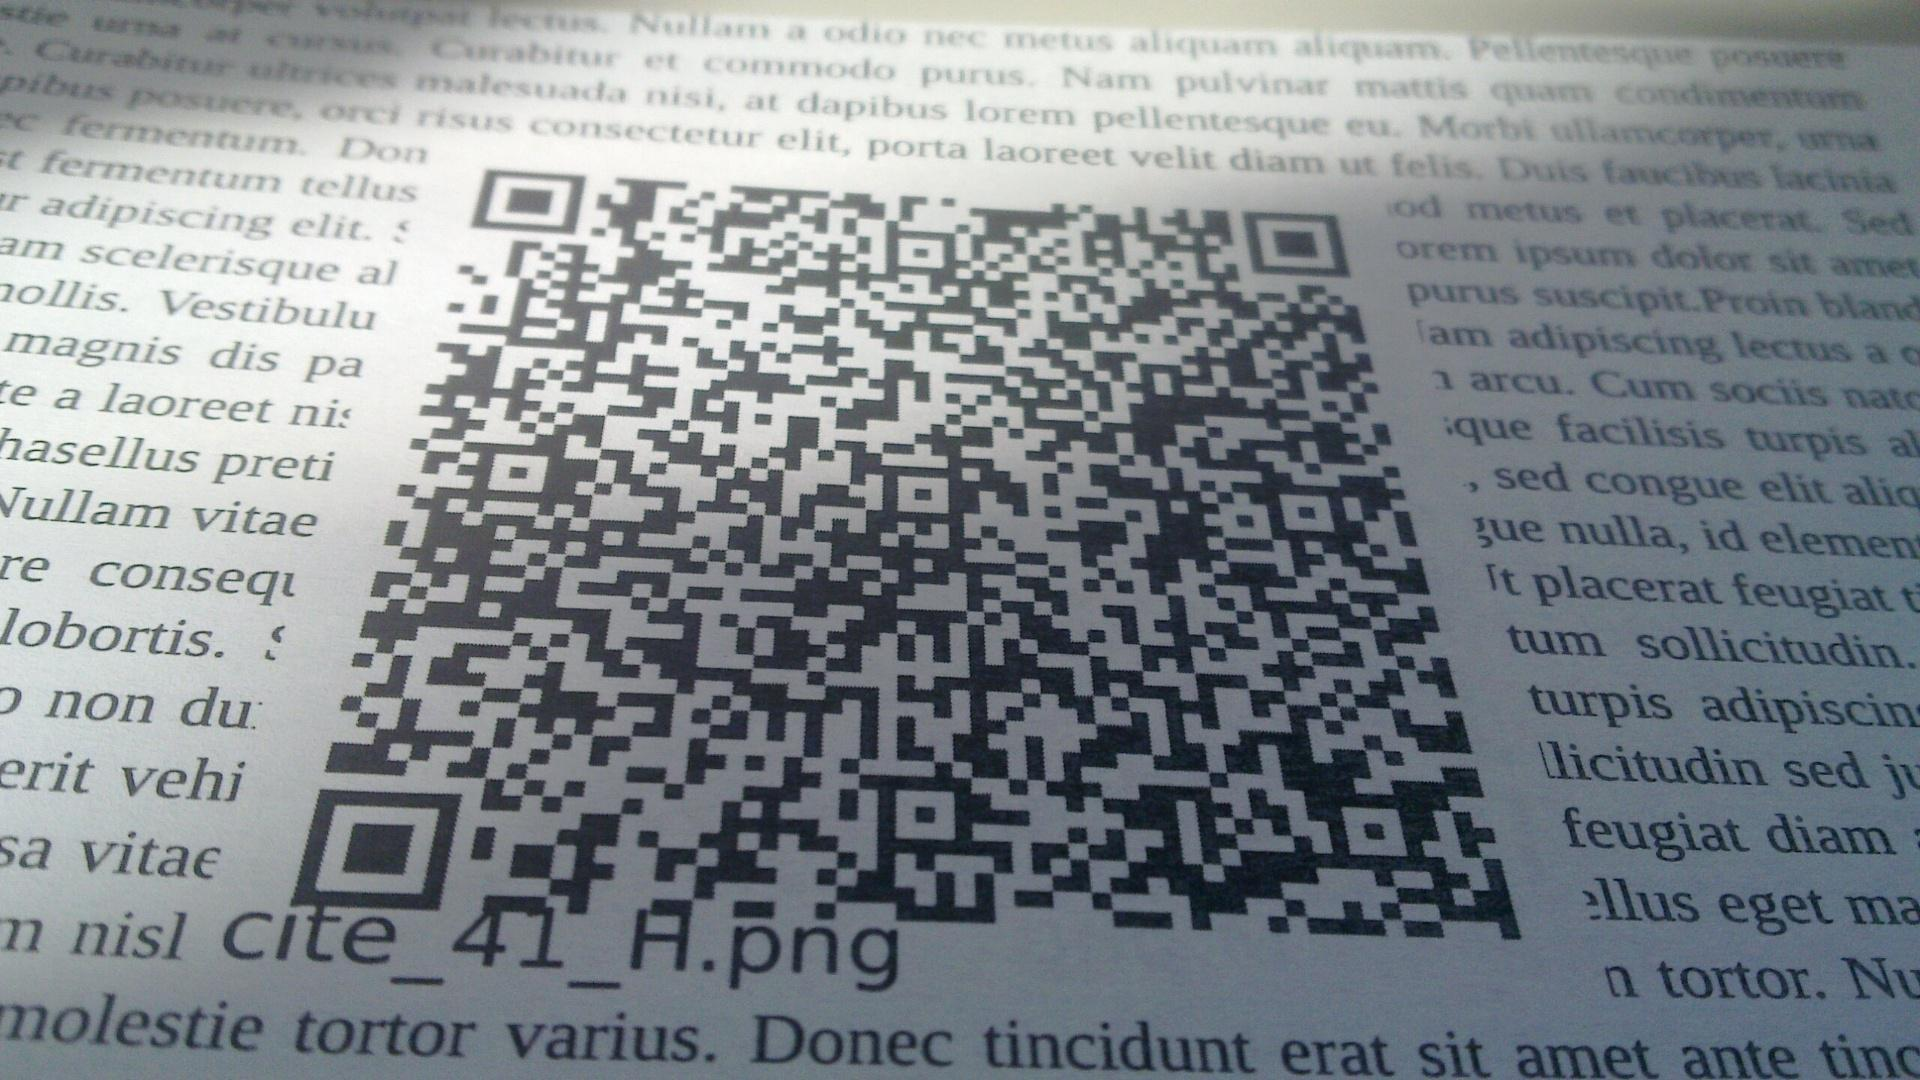qr_code: (293, 169, 1522, 945)
